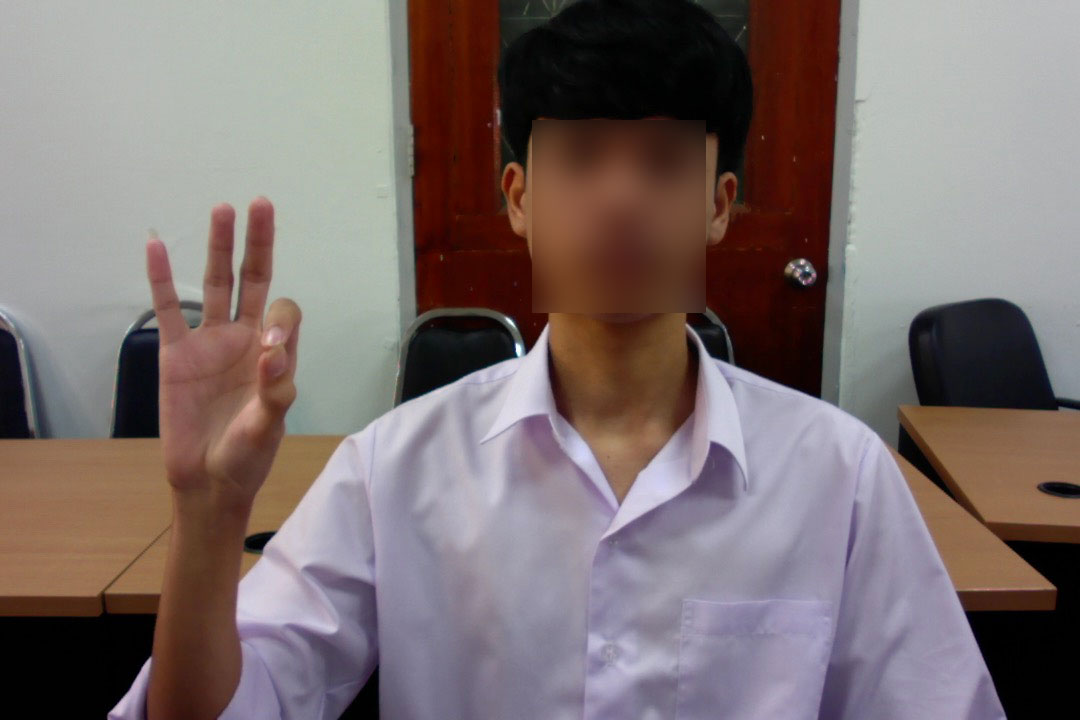for: (103, 168, 330, 566)
